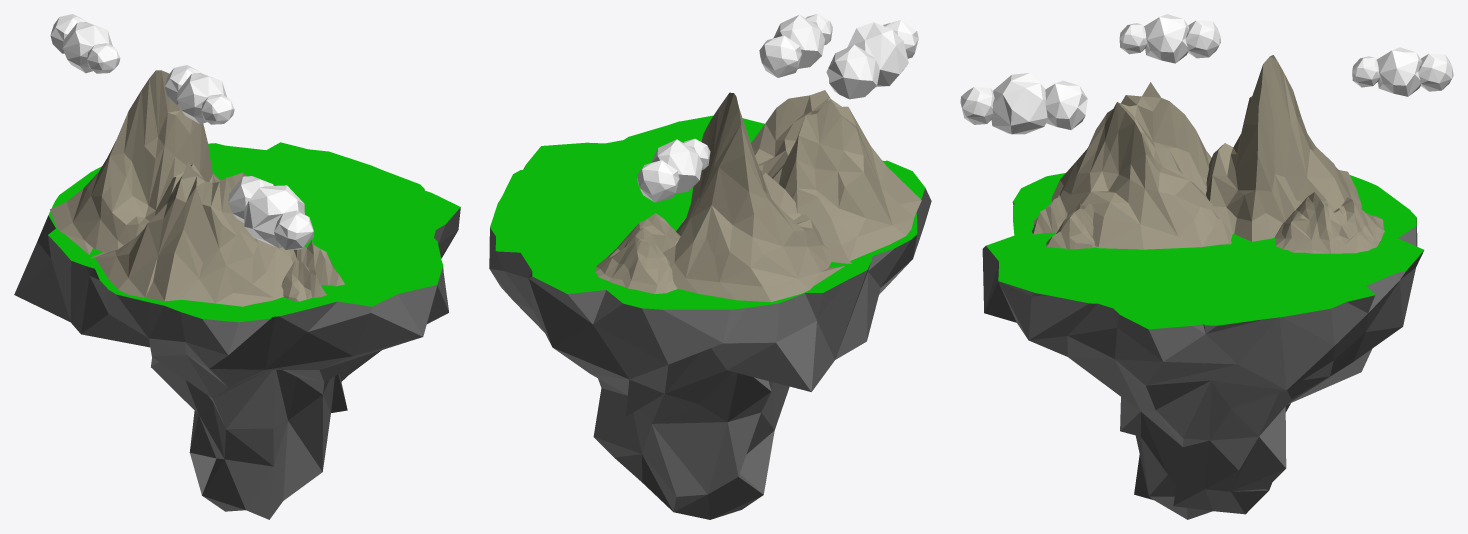
The model's file is Island + Textures.fbx.
The picture shows the model from 3 angles, left to right: view 1: azimuth 30°, elevation 25°; view 2: azimuth 150°, elevation 25°; view 3: azimuth 270°, elevation 25°; orthographic projection. The views are drawn at different scales.
Visible parts, largest first — view 1: Island; view 2: Island; view 3: Island.
Boxes of the visible parts, x1=… form: Island: x1=14, y1=14, x2=460, y2=519; Island: x1=489, y1=14, x2=931, y2=519; Island: x1=960, y1=14, x2=1453, y2=519.
Size of the model in its own units: 340 by 422 by 403.
